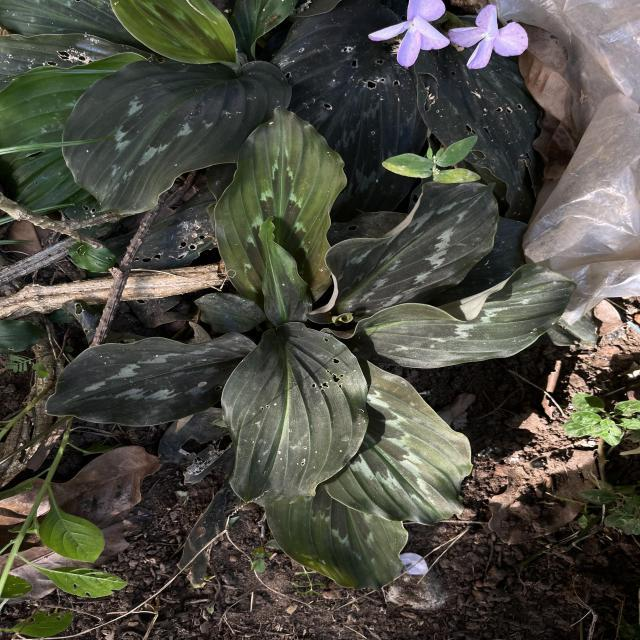Kaempferia galanga linn: (59, 58, 294, 217), (304, 180, 502, 326), (218, 320, 370, 510), (211, 103, 349, 310), (320, 262, 580, 371), (320, 354, 476, 528), (42, 329, 260, 429), (264, 491, 412, 594), (255, 214, 314, 328)
